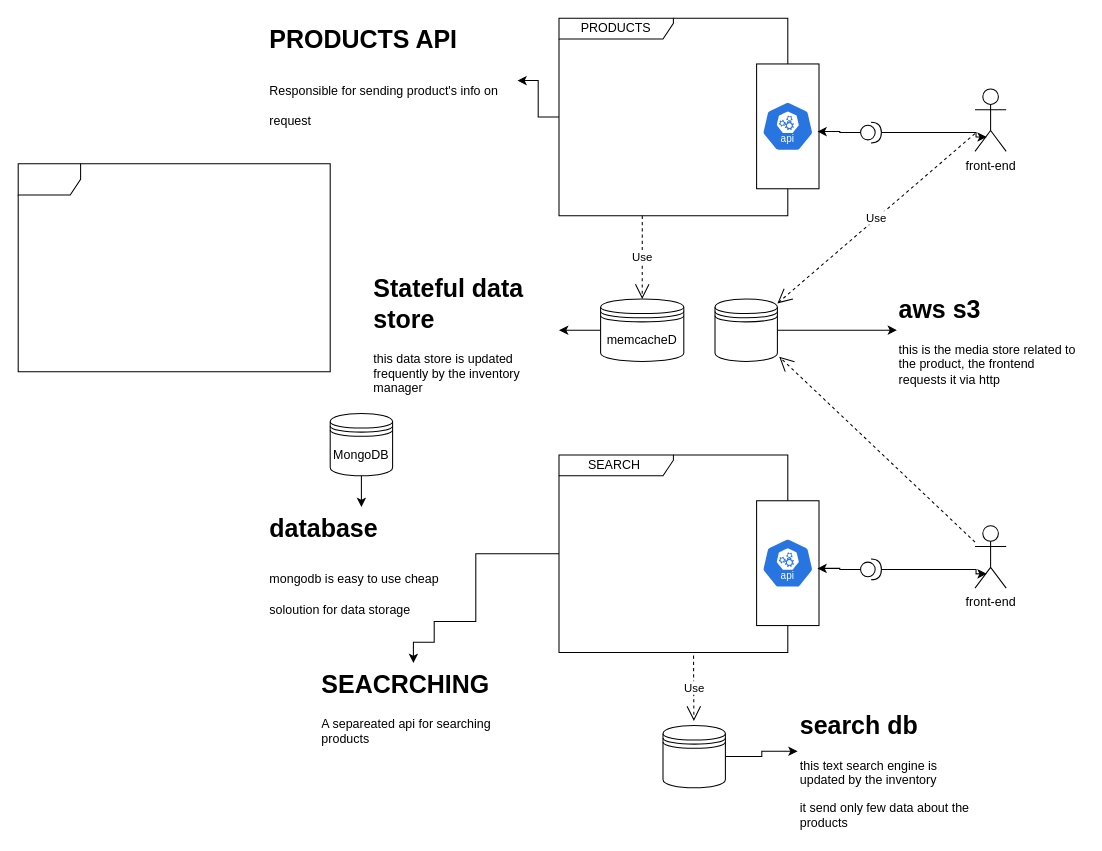
This 1102x851 diagram has some shape labels left out. The shapes that lost their labels are listed below. From the top down, each one's centre as x and y in pixels, then its label:
point 173,267: Inventory
point 745,329: S3
point 693,756: elastic search
